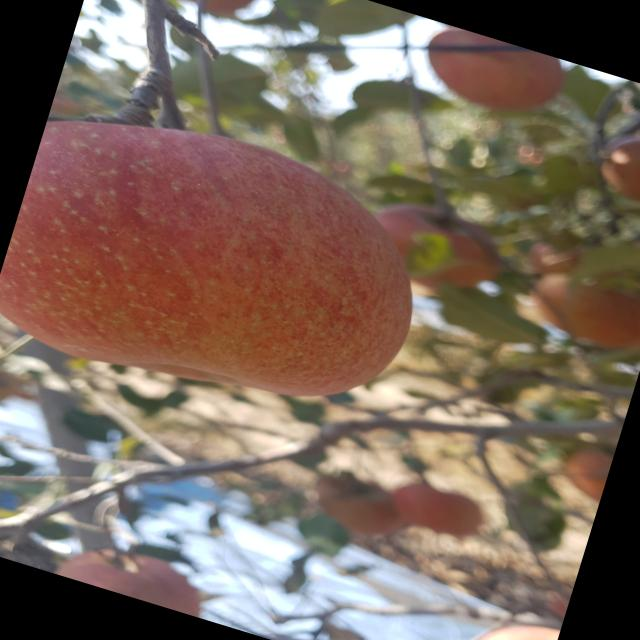fresh: (1, 78, 467, 458)
